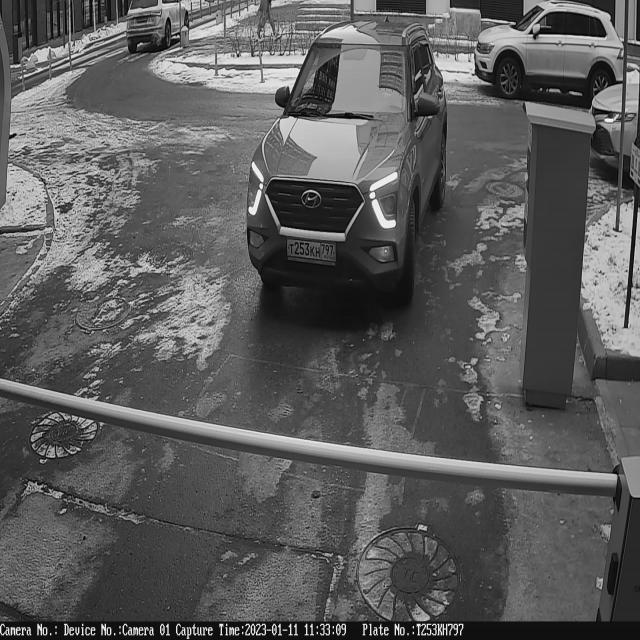car-plate-numbers: (286, 237, 340, 270)
